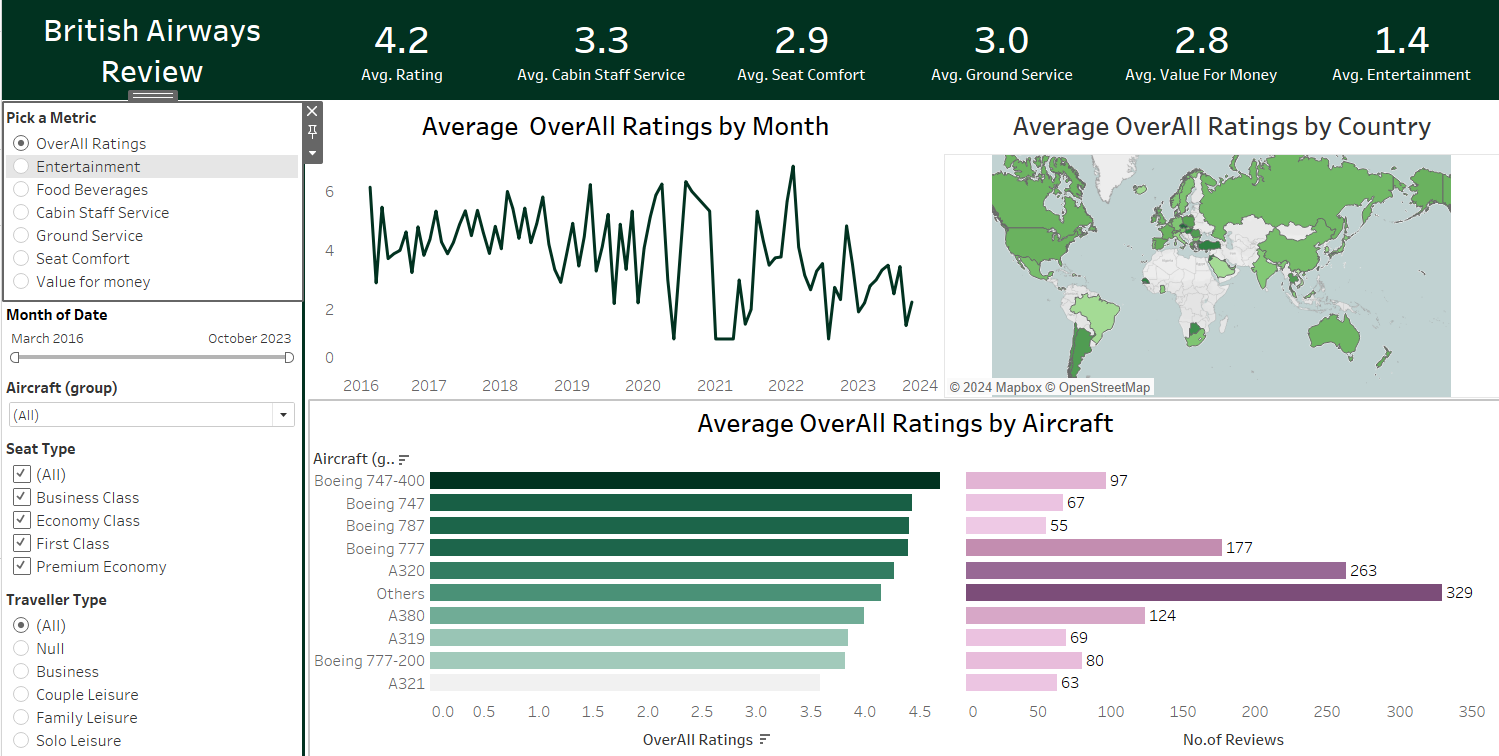

Layout of this report page (visuals, bound fields, positions):
{"tool":"tableau","page":{"name":"Dashboard 1","canvas":[1000,1000],"units":"permille","ordinal":0},"visuals":[{"type":"text","box":[0,0,200,132.6]},{"type":"worksheet","title":"Header","mark":"Automatic","box":[200,0,800,132.6]},{"type":"blank","box":[200,135.5,2,864.5]},{"type":"parameter","param":"[Parameters].[Place Parameter]","box":[0,137.3,200,258.7]},{"type":"worksheet","title":"Month","mark":"Automatic","rows":["Calculation_163255488581165056"],"cols":["date"],"box":[206,138.2,419.3,386.8]},{"type":"worksheet","title":"Map","mark":"Automatic","box":[628,138.2,370.7,386.8]},{"type":"filter","title":"Map","param":"[federated.19eomkt1p5cr9r19qxmew0vwq138].[tmn:date:qk]","box":[0,396,200,96.1]},{"type":"filter","title":"Map","param":"[federated.19eomkt1p5cr9r19qxmew0vwq138].[Aircraft (group)]","box":[0,492.1,200,80.3]},{"type":"worksheet","title":"Aircraft","mark":"Automatic","cols":["Calculation_163255488581165056","ba_reviews (1).csv_712ABA49FA3B4792A90E1454D2BC1499"],"box":[205.3,529,794,468.4]},{"type":"filter","title":"Map","param":"[federated.19eomkt1p5cr9r19qxmew0vwq138].[none:seat_type:nk]","box":[0,572.4,200,198.7]},{"type":"filter","title":"Map","param":"[federated.19eomkt1p5cr9r19qxmew0vwq138].[none:traveller_type:nk]","box":[0,771.1,200,229]}]}

Visuals, with their boxes on the dashboard's canvas, which has no fixed pixel size, in thousandths of its width and height (x1, y1, x2, y2). These are canvas units, not pixel positions in the 1499x756 screenshot, which may show the page scaled, cropped or inside an application window:
text: 0/0/200/133
"Header" worksheet: 200/0/1000/133
blank: 200/136/202/1000
parameter: 0/137/200/396
"Month" worksheet: 206/138/625/525
"Map" worksheet: 628/138/999/525
"Map" filter: 0/396/200/492
"Map" filter: 0/492/200/572
"Aircraft" worksheet: 205/529/999/997
"Map" filter: 0/572/200/771
"Map" filter: 0/771/200/1000
